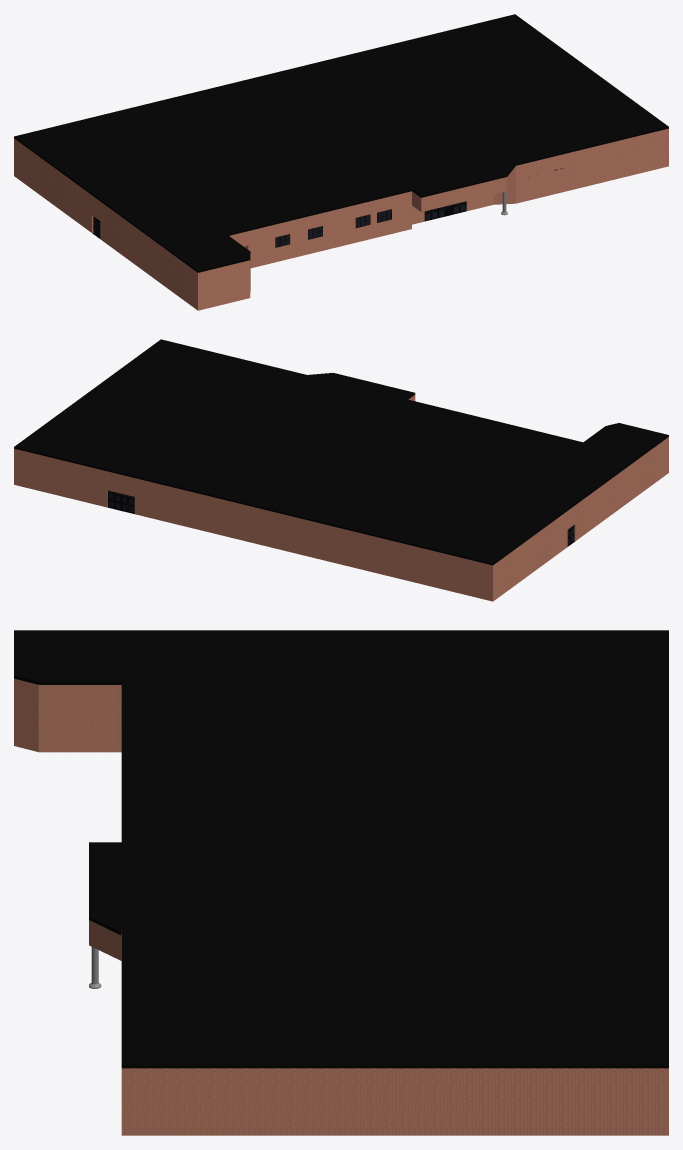
Rendered from Lincoln.fbx.
The picture shows the model from 3 angles, top to bottom: view 1: azimuth 30°, elevation 25°; view 2: azimuth 150°, elevation 25°; view 3: azimuth 270°, elevation 25°; orthographic projection. The views are drawn at different scales.
Parts seen in each view (by area): view 1: Cube.008; view 2: Cube.008; view 3: Cube.008.
Part boxes in pixels (left/top/right/bottom): Cube.008: left=14, top=14, right=668, bottom=310; Cube.008: left=14, top=339, right=668, bottom=601; Cube.008: left=14, top=630, right=668, bottom=1135.
Bounding box in the file's own units: 7602 × 574 × 4836.
